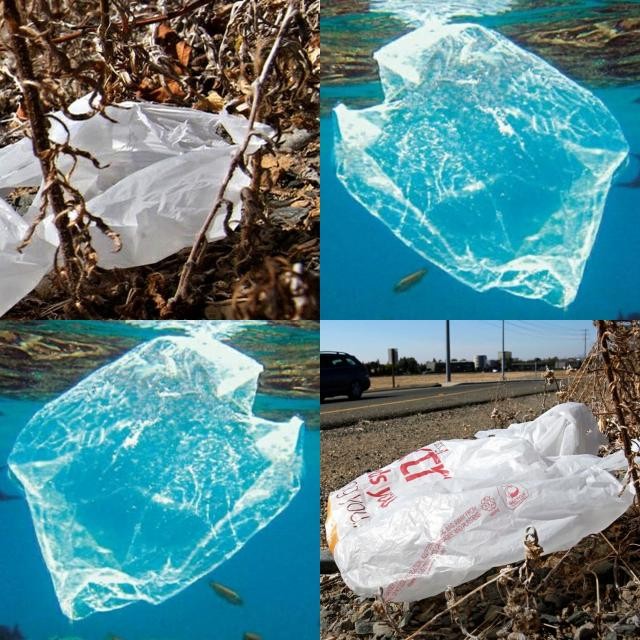Single-layer Plastic: (334, 22, 629, 308), (9, 334, 302, 620), (325, 402, 634, 602), (65, 102, 248, 269)
